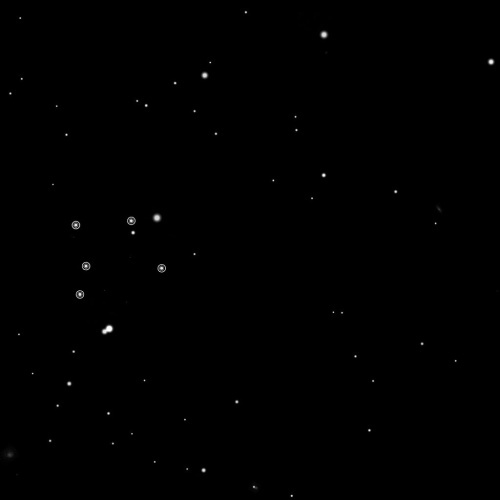libra: (66, 212, 169, 307)
